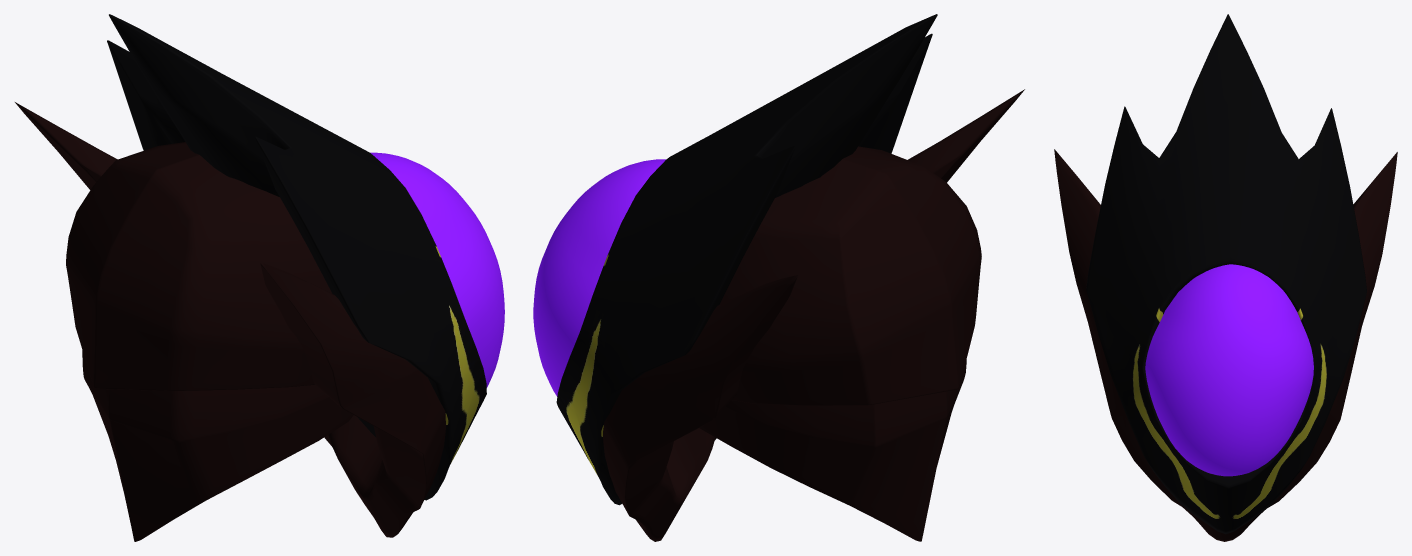
File: zerocasco_code_geass.glb
The picture shows the model from 3 angles, left to right: view 1: azimuth 30°, elevation 25°; view 2: azimuth 150°, elevation 25°; view 3: azimuth 270°, elevation 25°; orthographic projection. The views are drawn at different scales.
Parts seen in each view (by area): view 1: Object_4, Object_3, Object_2; view 2: Object_4, Object_3, Object_2; view 3: Object_3, Object_2, Object_4.
Boxes of the visible parts, x1,y1,x2,y2 form: Object_4: (15,102,445,541); Object_3: (107,14,486,500); Object_2: (370,152,504,387); Object_4: (603,89,1024,541); Object_3: (556,14,937,505); Object_2: (533,159,665,396); Object_3: (1086,14,1366,534); Object_2: (1145,264,1313,476); Object_4: (1054,149,1397,541).
Size of the model in its own units: 11.07 by 15.53 by 11.25.
Materials: 3 (1 with a texture image).
